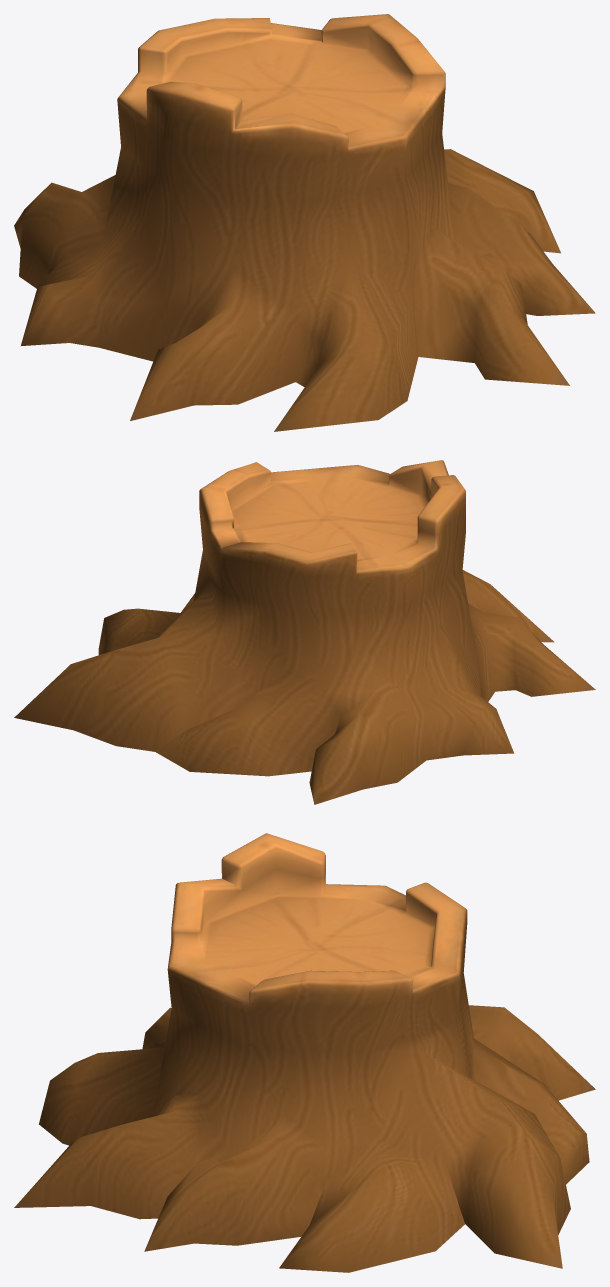
The model's file is SM_TrunkTree.glb.
3 views of the same model, one above another, from view 1: azimuth 30°, elevation 25°; view 2: azimuth 150°, elevation 25°; view 3: azimuth 270°, elevation 25° (orthographic). The views are drawn at different scales.
Parts seen in each view (by area): view 1: SM_TrunkTree; view 2: SM_TrunkTree; view 3: SM_TrunkTree.
Boxes of the visible parts, left/top/right/bottom form: SM_TrunkTree: left=14, top=14, right=595, bottom=431; SM_TrunkTree: left=14, top=460, right=595, bottom=804; SM_TrunkTree: left=14, top=833, right=595, bottom=1272.
Bounding box in the file's own units: 1.15 × 0.5668 × 1.19.
Materials: 1 (1 with a texture image).
